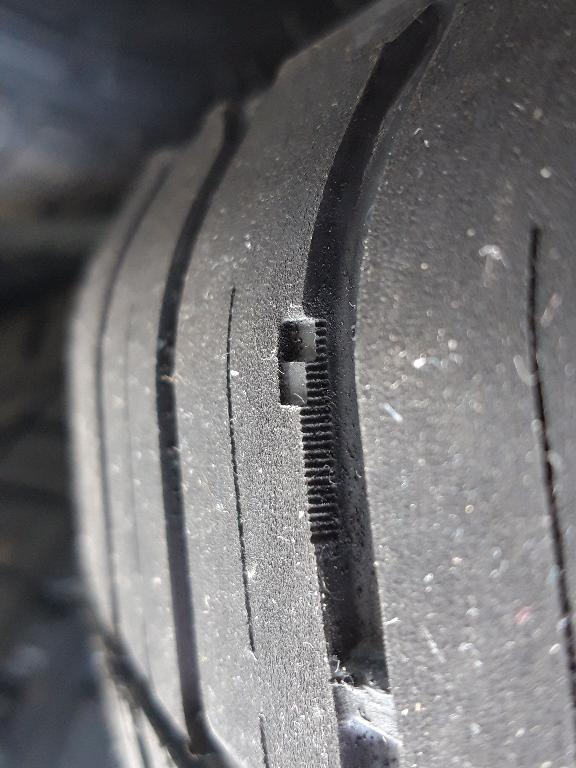temoin:25: (269, 309, 341, 418)
